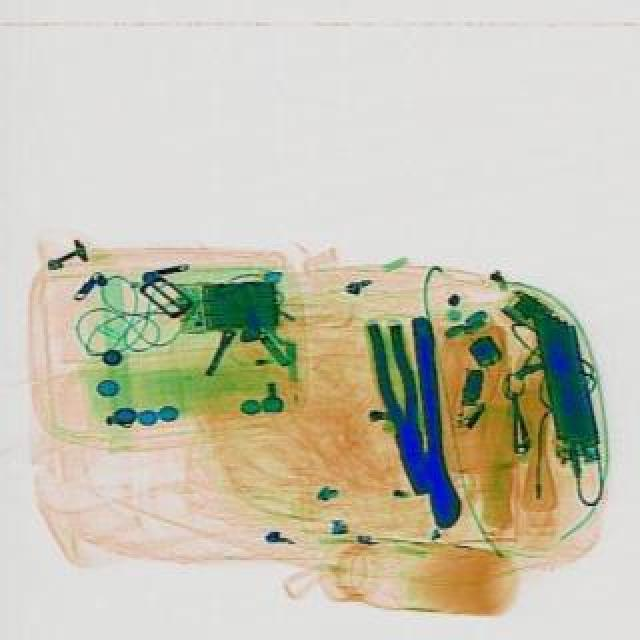scissors: (394, 312, 462, 528)
wrench: (362, 316, 434, 474)
